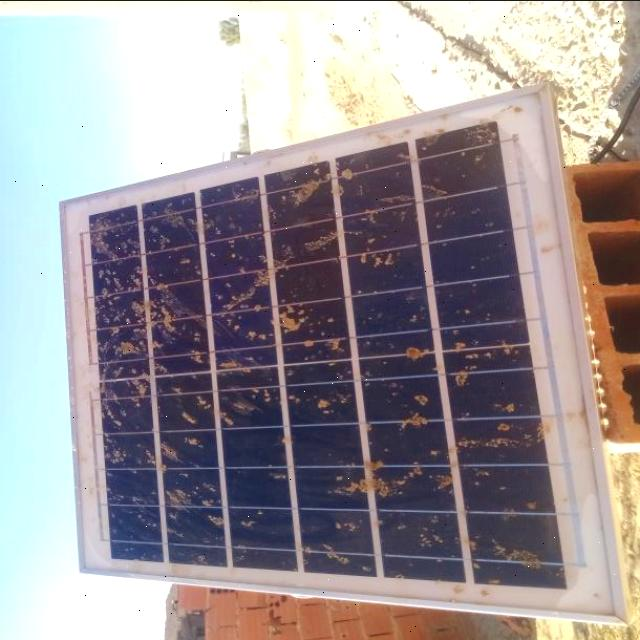Surface Contaminant: (89, 119, 547, 588)
